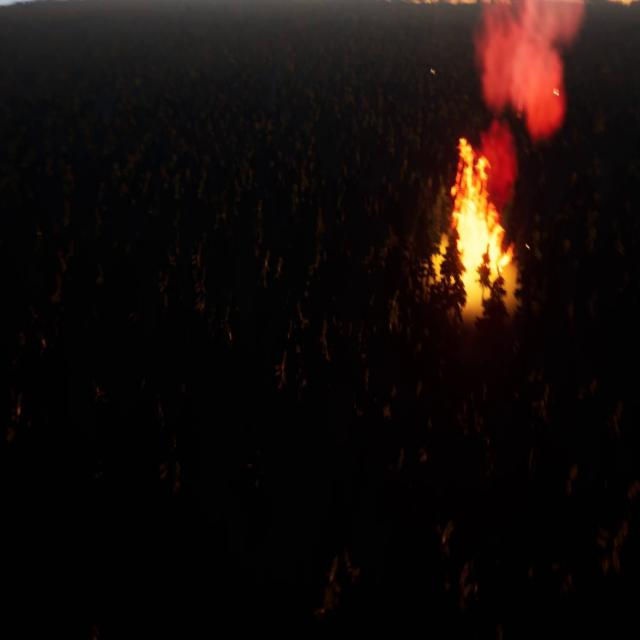fire: (444, 139, 514, 296)
smoke: (476, 0, 588, 194)
